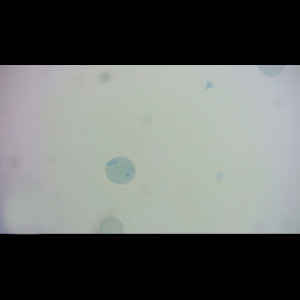aggregate reticulocyte: (104, 155, 137, 185)
